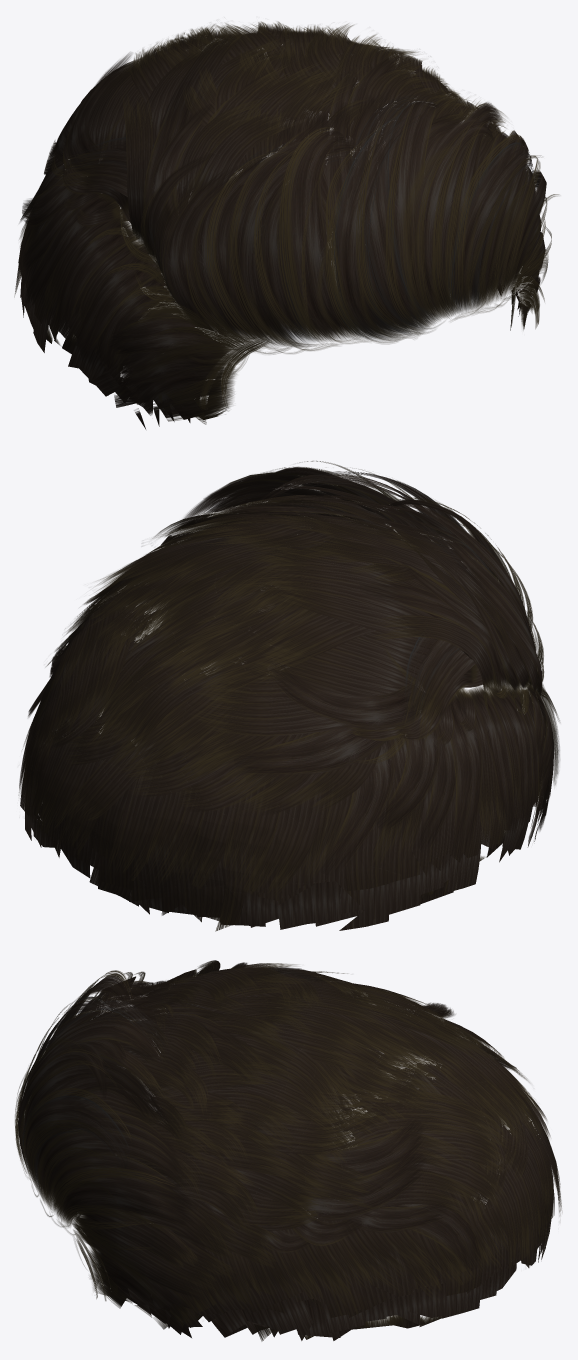
File: Triangle_Straight_Quiff.glb
3 renders of one model, top to bottom at view 1: azimuth 30°, elevation 25°; view 2: azimuth 150°, elevation 25°; view 3: azimuth 270°, elevation 25°, orthographic. The views are drawn at different scales.
Parts seen in each view (by area): view 1: QUIFF; view 2: QUIFF; view 3: QUIFF.
Boxes of the visible parts, x1,y1,x2,y2 form: QUIFF: [14, 21, 558, 429]; QUIFF: [18, 461, 559, 931]; QUIFF: [15, 960, 561, 1341].
Bounding box in the file's own units: 0.2033 × 0.1309 × 0.227.
1 material, 1 textured.
